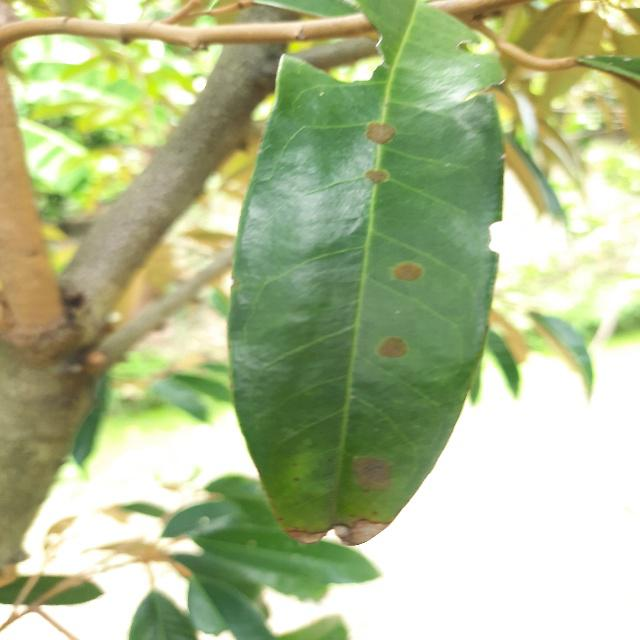Algal Leaf Spot: (217, 0, 514, 555)
